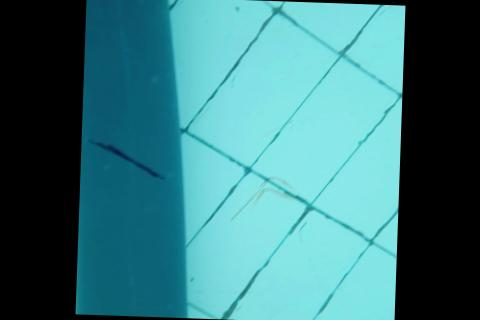keretakan: (84, 136, 163, 180)
